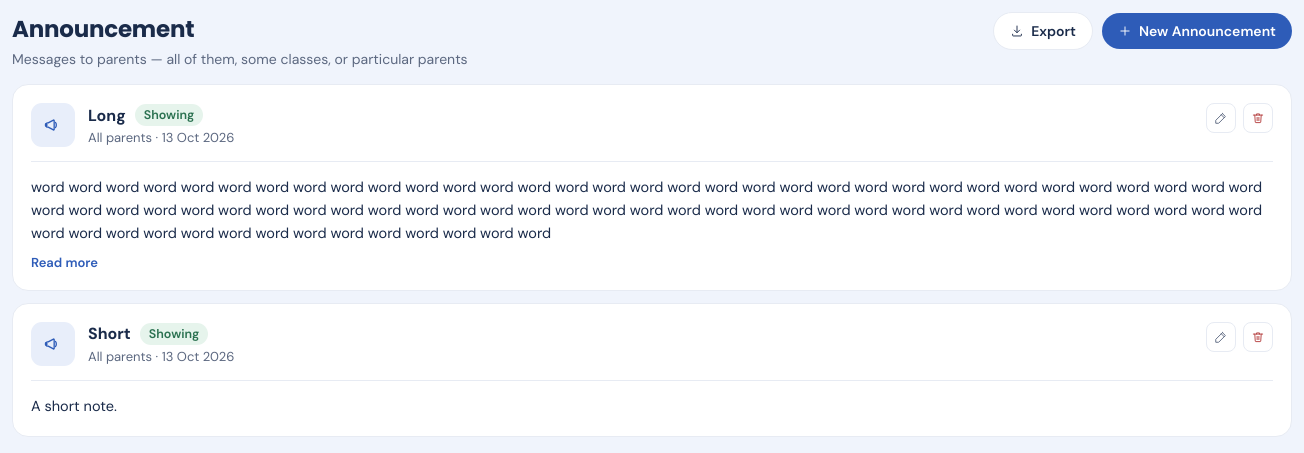
Scenario: when parents see it › folds a long text behind Read more
The width and height of the screenshot is (1304, 453).
Click the button "Read more" at (64, 262), box [31,254,98,271]
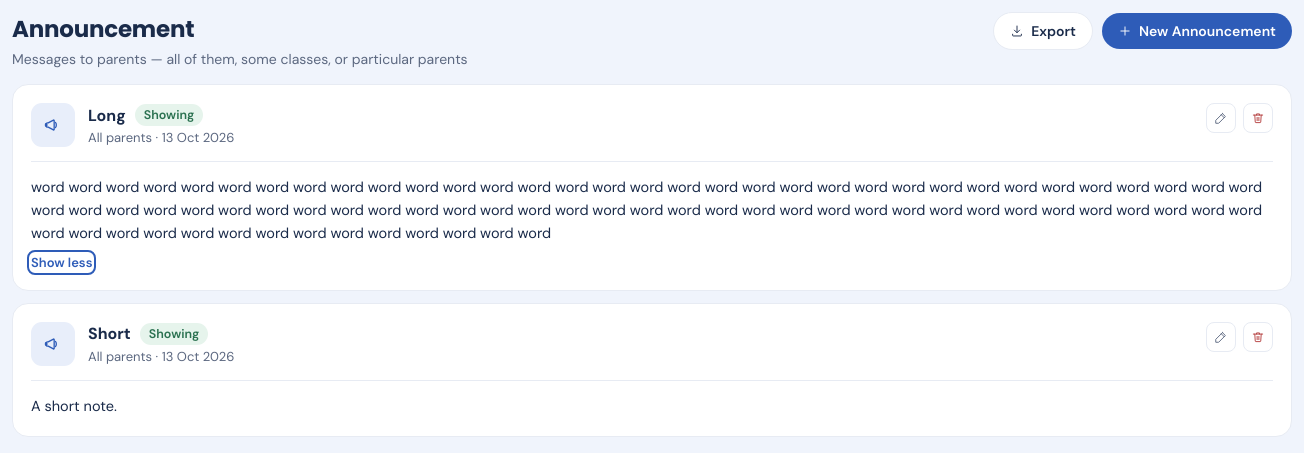
Expected: the button "Show less" is shown, [31,254,92,271]
